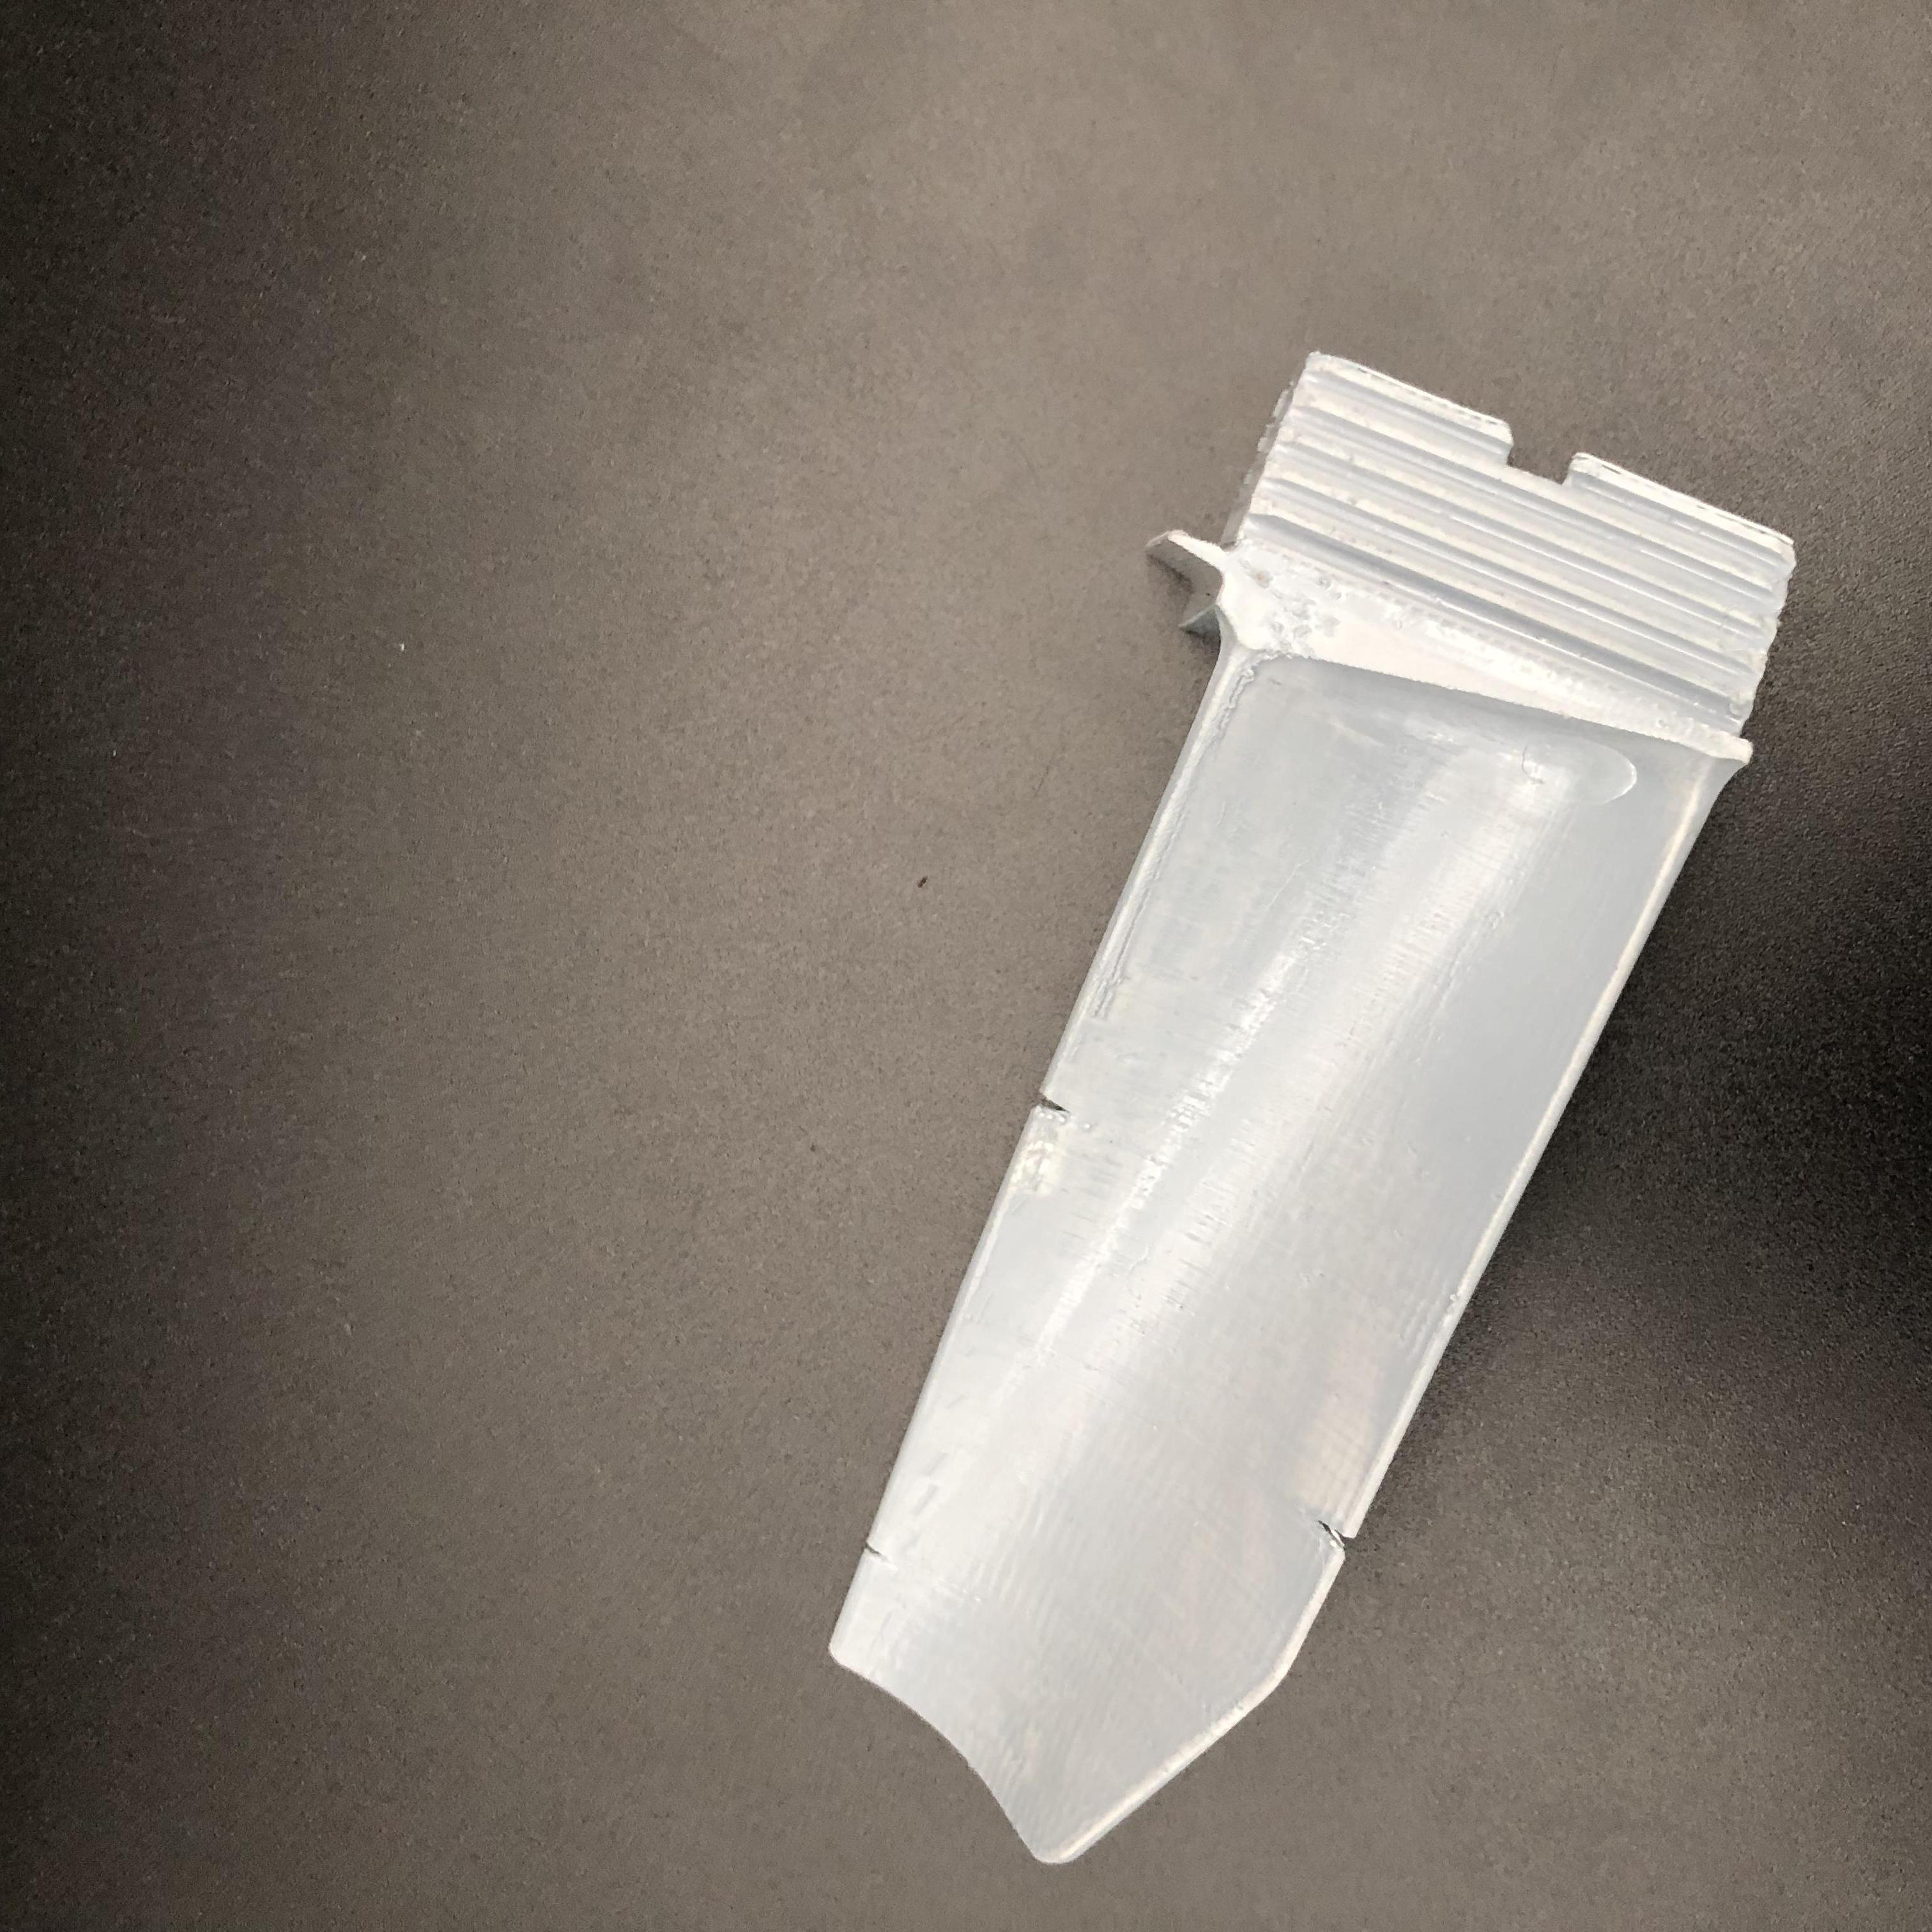groove: (1313, 1507, 1368, 1562), (1026, 1086, 1077, 1136), (860, 1536, 895, 1569)
